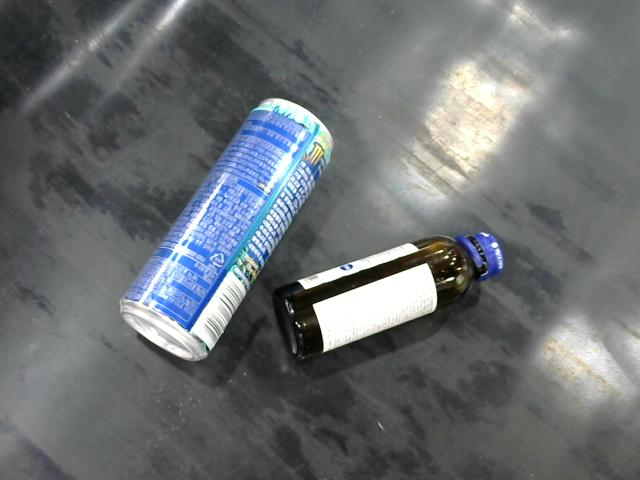trash: (118, 95, 339, 362), (266, 228, 512, 363)
